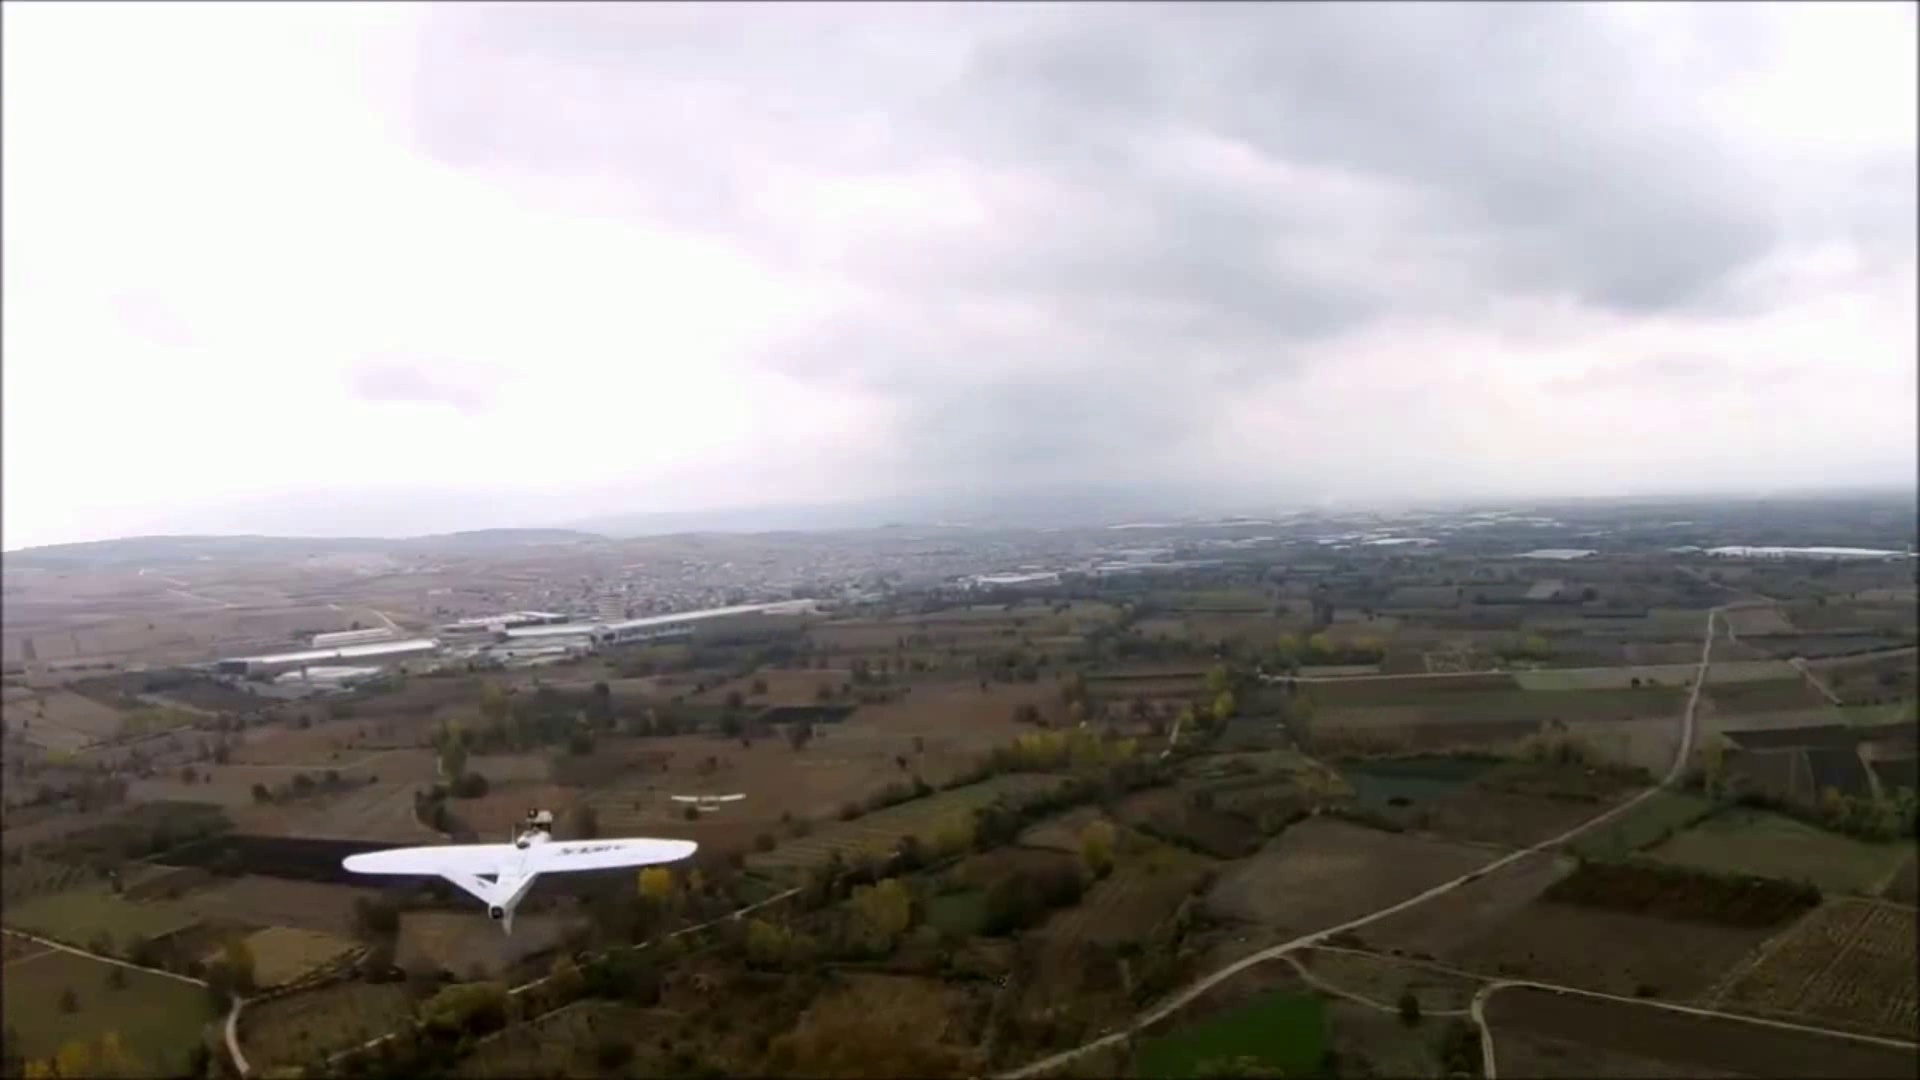airplane: (208, 820, 698, 924), (340, 822, 698, 920)
